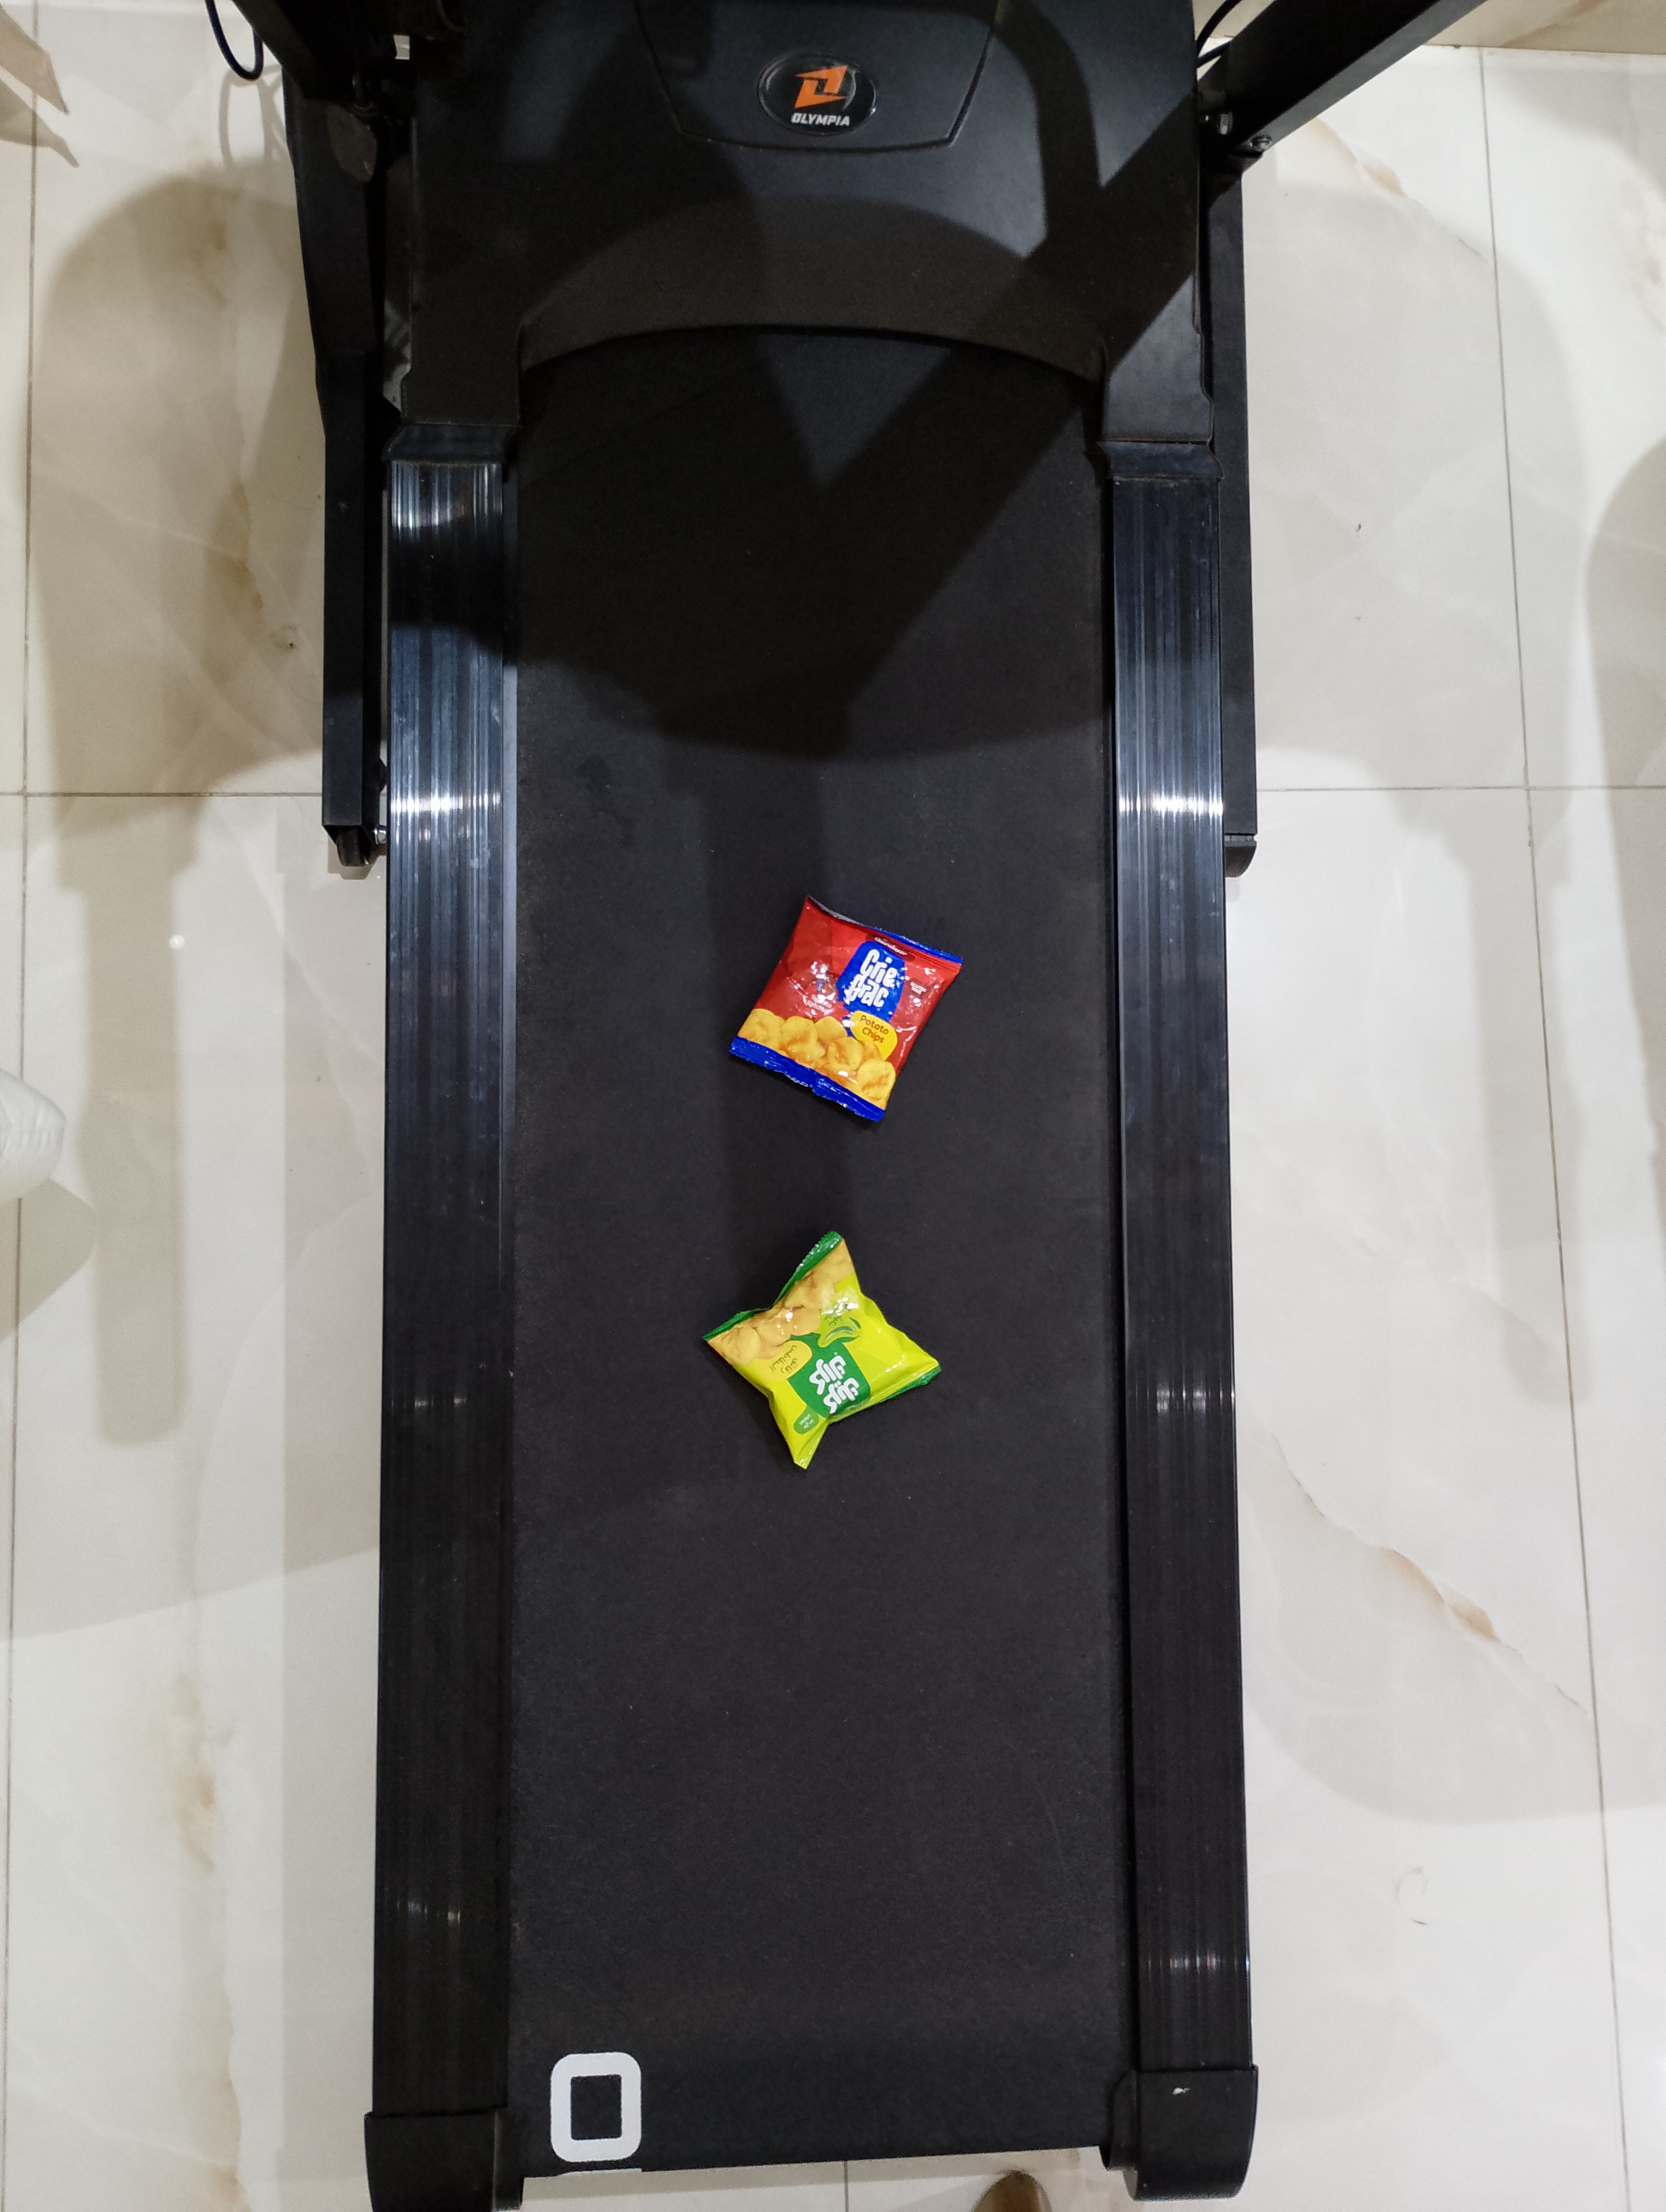cric_crac_special_flavour: (700, 1229, 943, 1471)
cric_crac_tomato_ketchup: (728, 894, 964, 1123)
